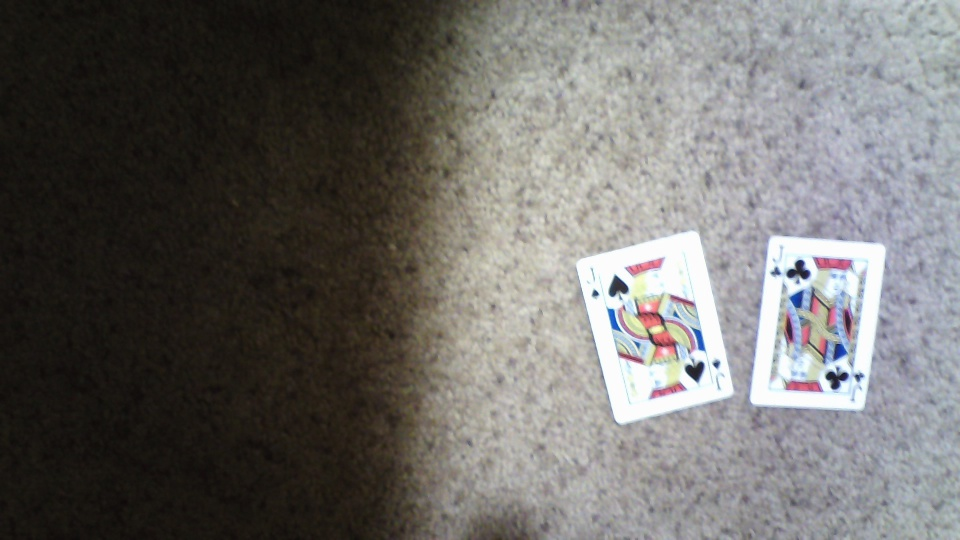jack: (570, 230, 734, 424), (749, 234, 886, 415)
